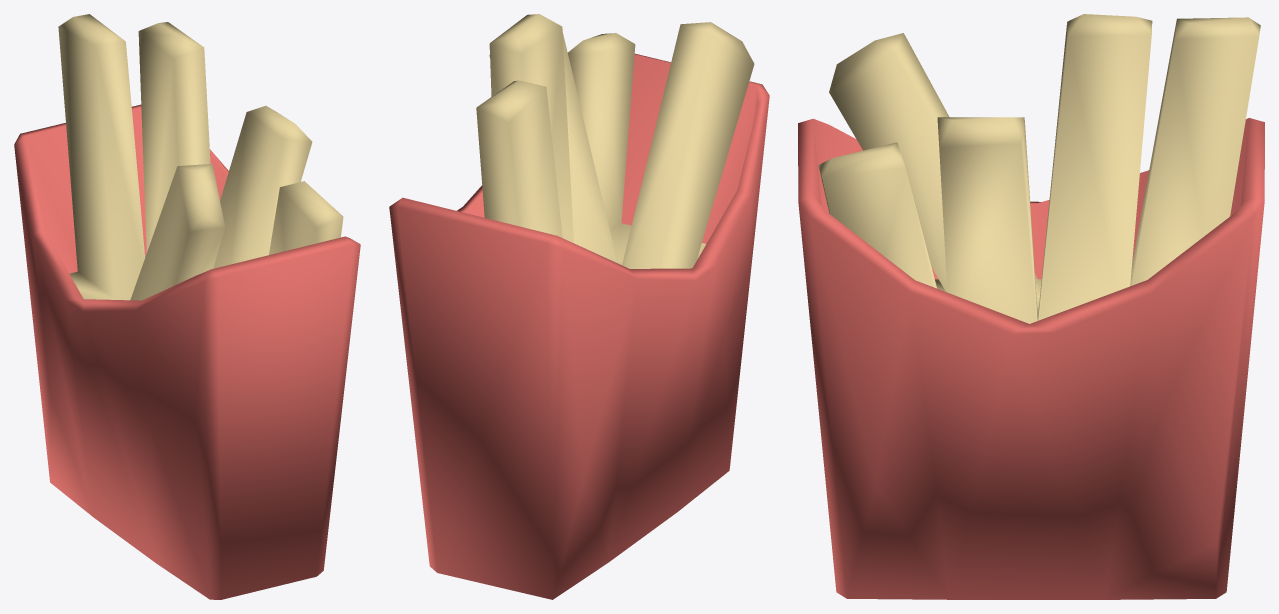
File: patates.fbx
3 renders of one model, left to right at view 1: azimuth 30°, elevation 25°; view 2: azimuth 150°, elevation 25°; view 3: azimuth 270°, elevation 25°, orthographic. The views are drawn at different scales.
Visible parts, largest first — view 1: kutu; view 2: kutu; view 3: kutu.
Part boxes in pixels (<box>): kutu: <box>14,14,360,599</box>; kutu: <box>389,14,769,599</box>; kutu: <box>798,14,1264,599</box>.
Bounding box in the file's own units: 11.96 × 23.63 × 17.87.
